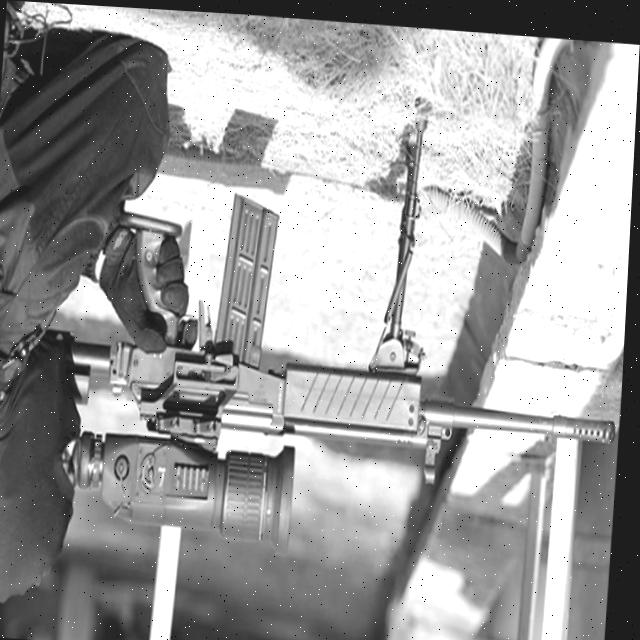firearm: (62, 65, 638, 569)
